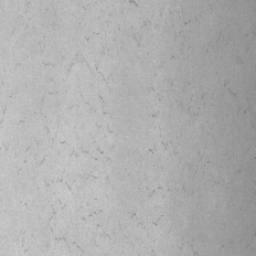Silk spot: (56, 176, 72, 190), (79, 171, 98, 180), (55, 236, 66, 242), (129, 0, 138, 7)
